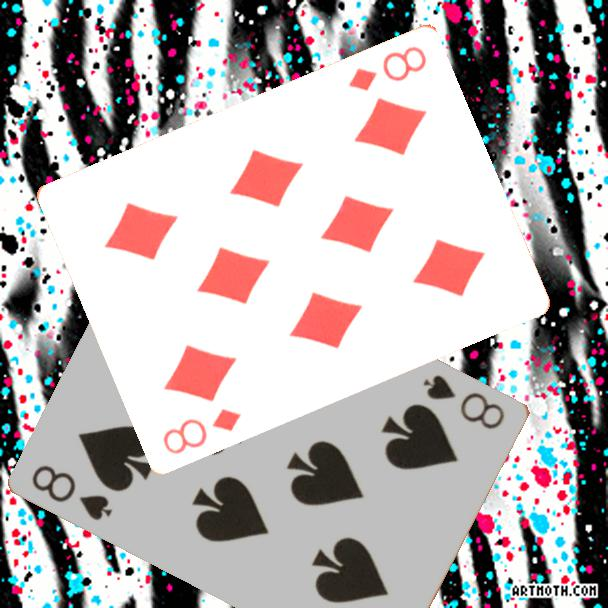d08: (345, 41, 430, 94), (159, 404, 244, 457)
s08: (28, 461, 116, 524), (420, 371, 509, 433)
